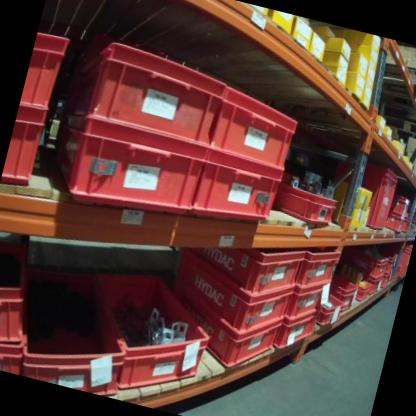pallet: (366, 59, 416, 114), (373, 109, 416, 148)
small_load_carrier: (53, 32, 230, 164), (75, 274, 218, 408), (6, 265, 143, 396), (42, 121, 204, 223), (168, 257, 296, 350), (178, 223, 308, 308), (158, 292, 282, 379), (210, 81, 305, 180), (188, 151, 285, 237), (328, 158, 401, 235), (0, 238, 47, 353), (18, 30, 70, 122), (1, 107, 51, 192), (275, 181, 342, 233), (279, 303, 323, 359), (292, 243, 340, 291), (286, 286, 326, 332), (341, 242, 389, 279), (324, 273, 361, 314), (337, 264, 386, 294), (378, 242, 410, 284), (341, 276, 372, 305), (320, 292, 344, 329), (391, 192, 411, 219), (378, 247, 397, 275), (0, 352, 20, 373), (386, 211, 406, 232), (380, 271, 392, 290), (402, 216, 413, 233)
